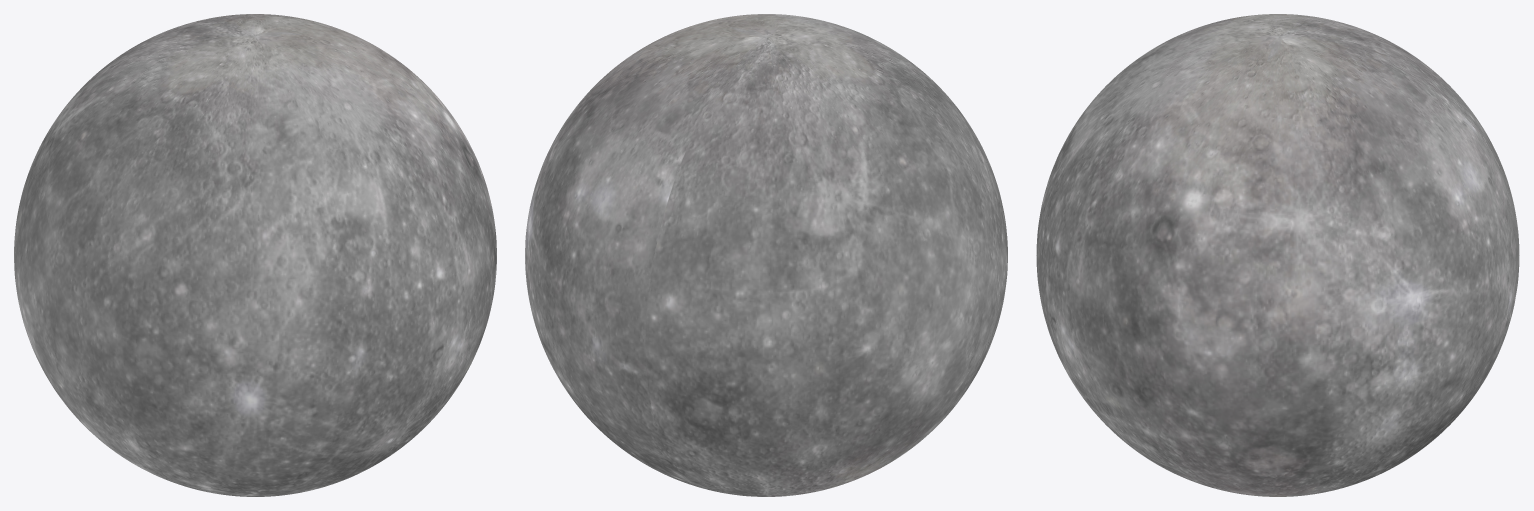
The model's file is mercury.gltf.
The picture shows the model from 3 angles, left to right: view 1: azimuth 30°, elevation 25°; view 2: azimuth 150°, elevation 25°; view 3: azimuth 270°, elevation 25°; orthographic projection.
Visible parts, largest first — view 1: Earth; view 2: Earth; view 3: Earth.
Boxes of the visible parts, left/top/right/bottom form: Earth: left=14, top=14, right=496, bottom=496; Earth: left=525, top=14, right=1007, bottom=496; Earth: left=1036, top=14, right=1519, bottom=496.
Size of the model in its own units: 100 by 100 by 100.
1 material, 1 textured.
